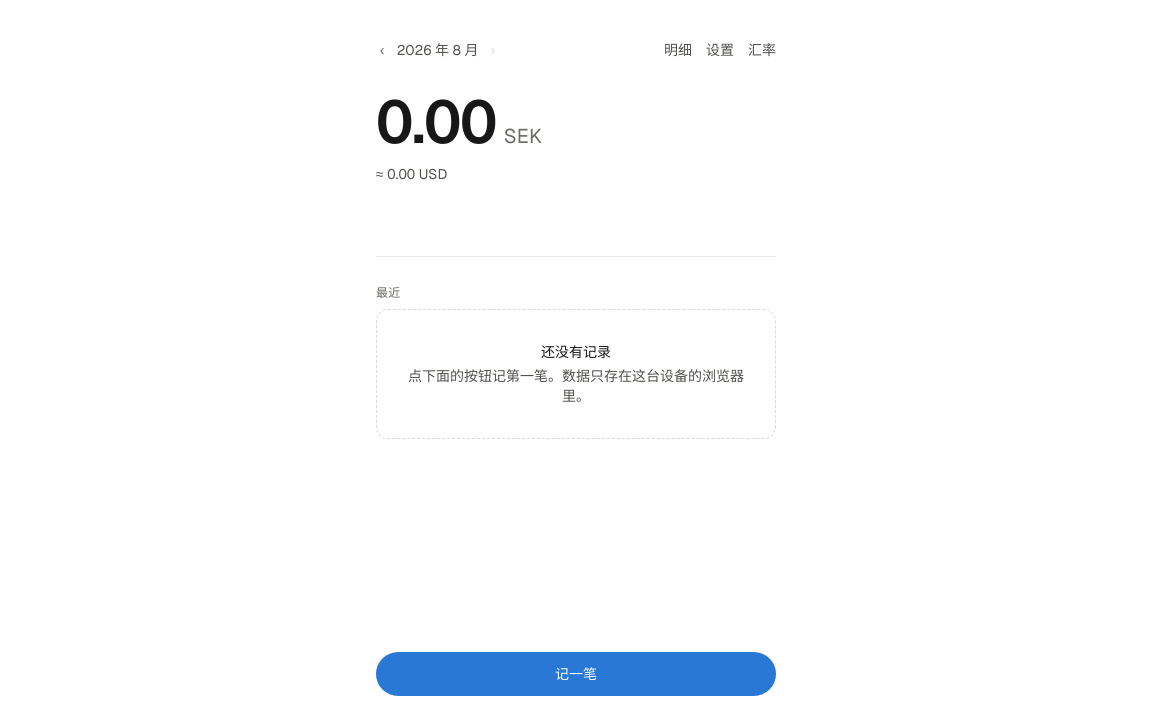
Test: 记一笔 › 金额没填时保存按钮不可点
The image size is (1152, 720).
Step 1. Click the button "记一笔" → (576,674), box [376, 652, 776, 696]
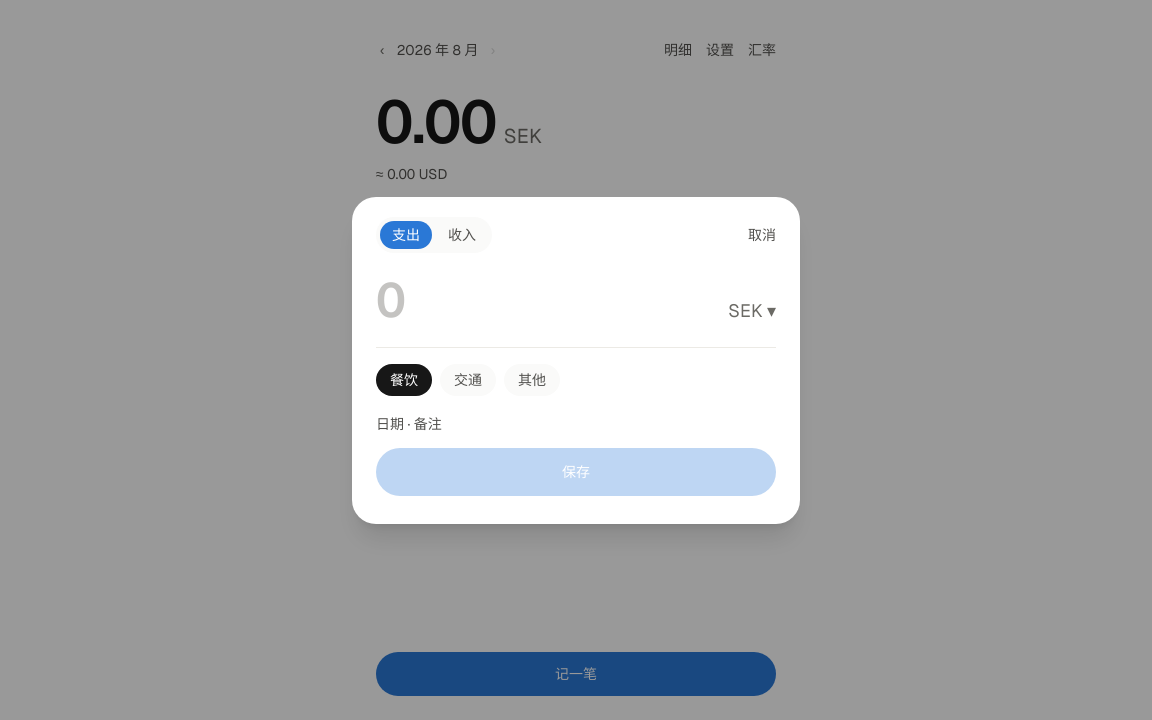
Expected: the button "保存" is disabled, [376, 448, 776, 496]
